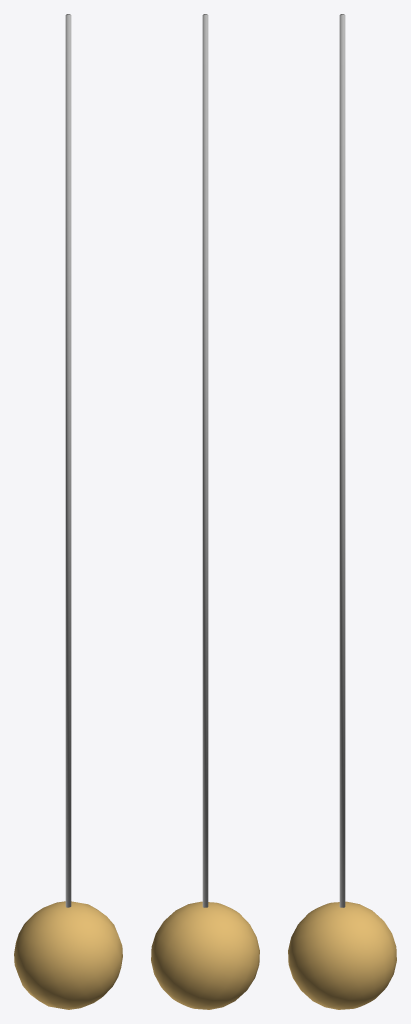
Rendered from pendulum_snake_p2.glb.
The picture shows the model from 3 angles, left to right: view 1: azimuth 30°, elevation 25°; view 2: azimuth 210°, elevation 25°; view 3: azimuth 330°, elevation 25°; orthographic projection.
Parts seen in each view (by area): view 1: Sphere2.001, Pendulum2.001; view 2: Sphere2.001, Pendulum2.001; view 3: Sphere2.001, Pendulum2.001.
Boxes of the visible parts, x1,y1,x2,y2 form: Sphere2.001: (14, 901, 122, 1009); Pendulum2.001: (65, 14, 71, 907); Sphere2.001: (151, 901, 259, 1009); Pendulum2.001: (202, 14, 208, 907); Sphere2.001: (288, 901, 396, 1009); Pendulum2.001: (339, 14, 345, 907).
Size of the model in its own units: 0.04 by 0.4023 by 0.04.
